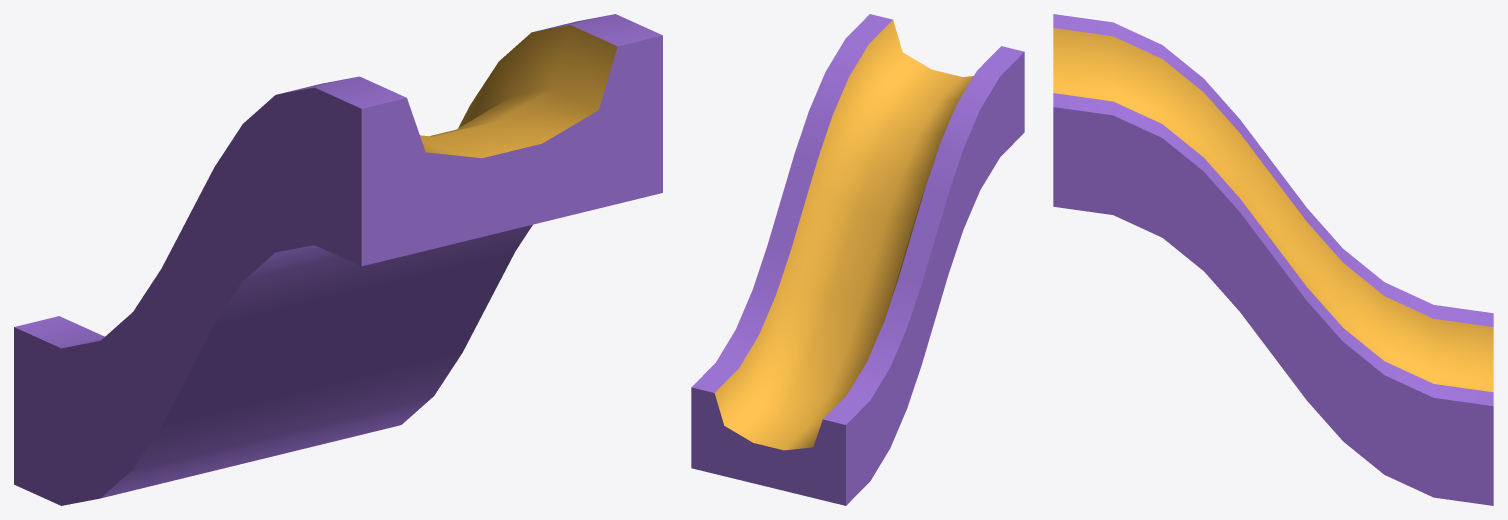
Rendered from kenney-marble-ramp-long-d.glb.
3 renders of one model, left to right at view 1: azimuth 30°, elevation 25°; view 2: azimuth 150°, elevation 25°; view 3: azimuth 270°, elevation 25°, orthographic. The views are drawn at different scales.
Parts seen in each view (by area): view 1: ramp-long-d; view 2: ramp-long-d; view 3: ramp-long-d.
Boxes of the visible parts, x1,y1,x2,y2 form: ramp-long-d: (14, 14, 662, 505); ramp-long-d: (691, 14, 1024, 505); ramp-long-d: (1053, 14, 1493, 505).
Bounding box in the file's own units: 1 × 2 × 2.
Materials: 1 (1 with a texture image).
